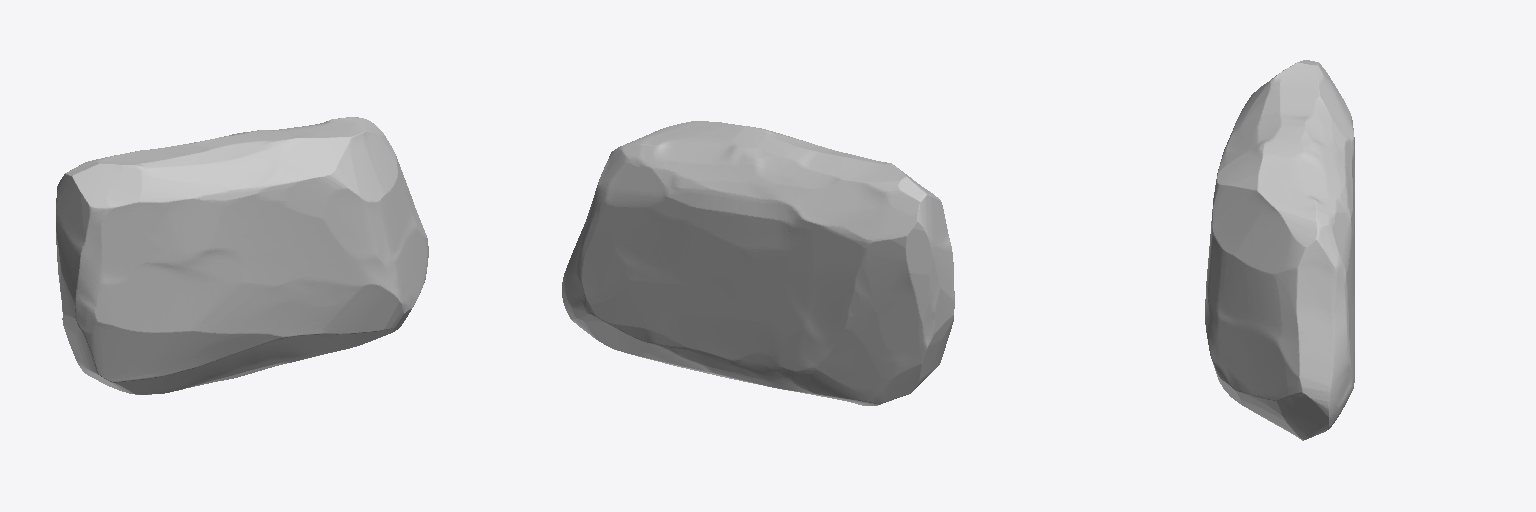
Rendered from rock3.OBJ.
The picture shows the model from 3 angles: view 1: azimuth 30°, elevation 25°; view 2: azimuth 150°, elevation 25°; view 3: azimuth 270°, elevation 25°; orthographic projection.
Visible parts, largest first — view 1: Group46771; view 2: Group46771; view 3: Group46771.
Boxes of the visible parts, x1=… form: Group46771: x1=56, y1=117, x2=428, y2=394; Group46771: x1=562, y1=121, x2=954, y2=405; Group46771: x1=1205, y1=60, x2=1354, y2=440.
Size of the model in its own units: 3.01 by 1.91 by 1.07.